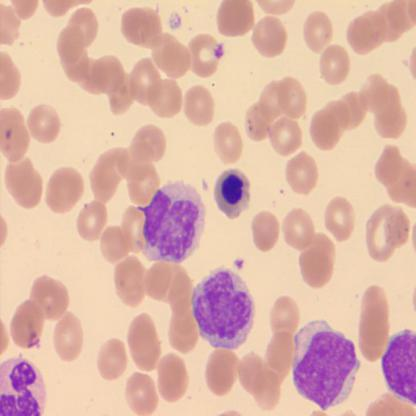NRC: (213, 166, 251, 220)
